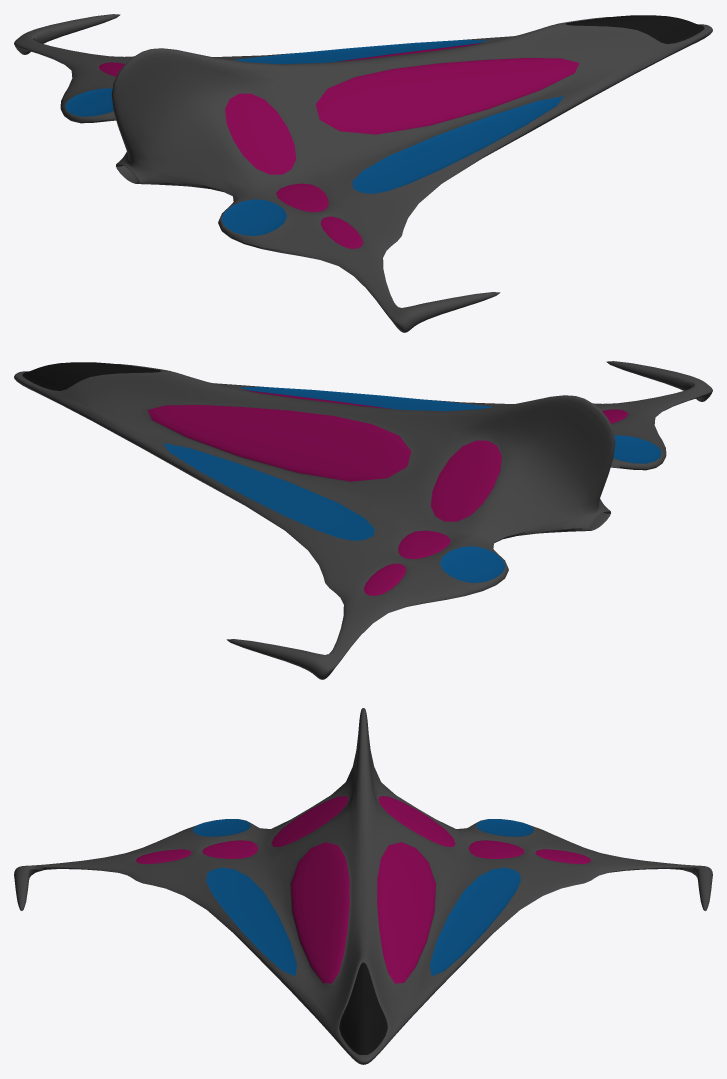
Rendered from ASF-HP.obj.
3 renders of one model, top to bottom at view 1: azimuth 30°, elevation 25°; view 2: azimuth 150°, elevation 25°; view 3: azimuth 270°, elevation 25°, orthographic. The views are drawn at different scales.
Parts seen in each view (by area): view 1: g0; view 2: g0; view 3: g0.
Part boxes in pixels (bbox=[...]): g0: bbox=[14, 14, 712, 332]; g0: bbox=[14, 361, 712, 679]; g0: bbox=[14, 708, 712, 1064].
Bounding box in the file's own units: 9.34 × 2.37 × 10.48.
